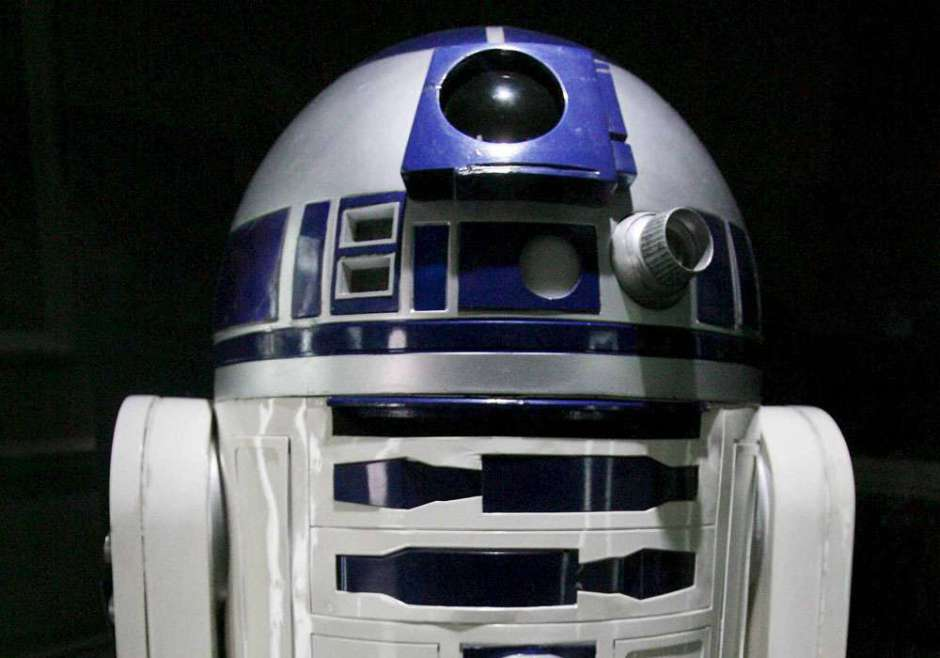r2d2: (118, 27, 854, 657)
